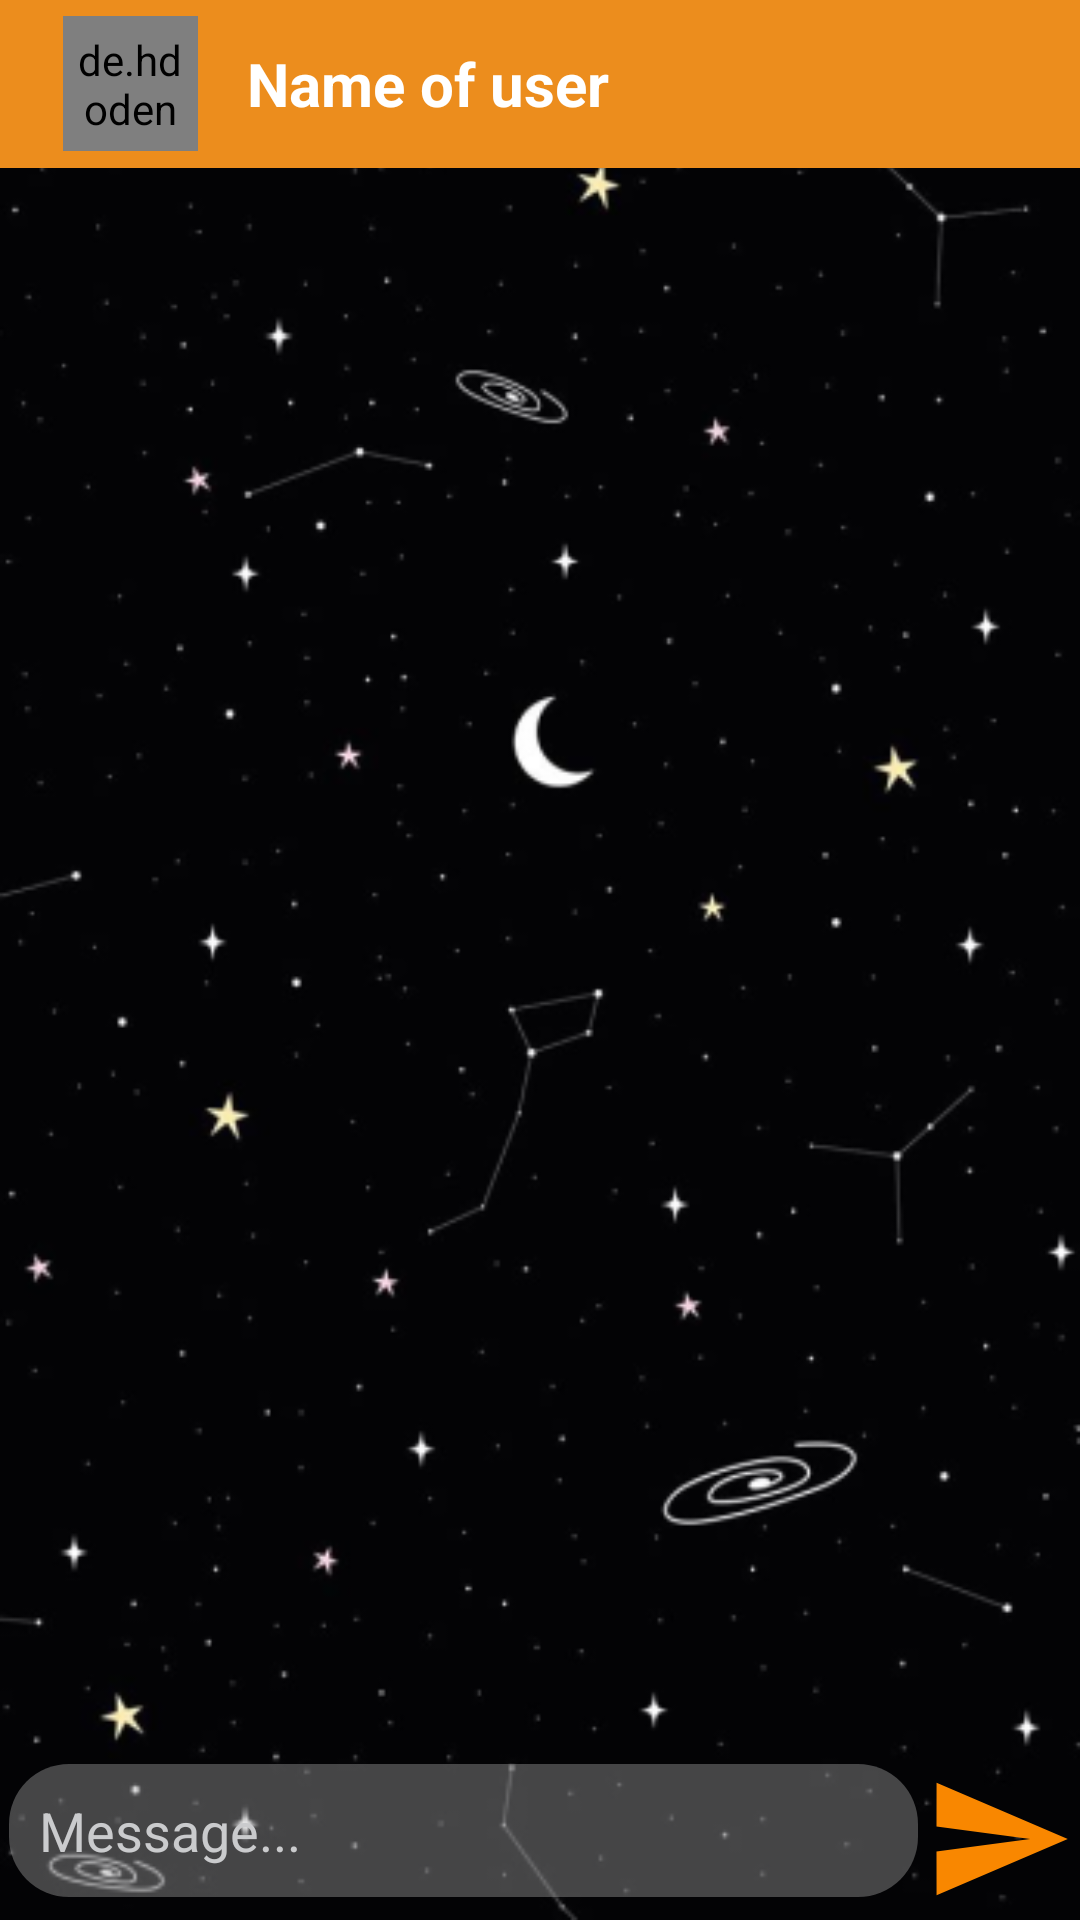

Icon click points for this 1080 × 1920 phone screenshot, format (x,y):
send: (996,1834)
